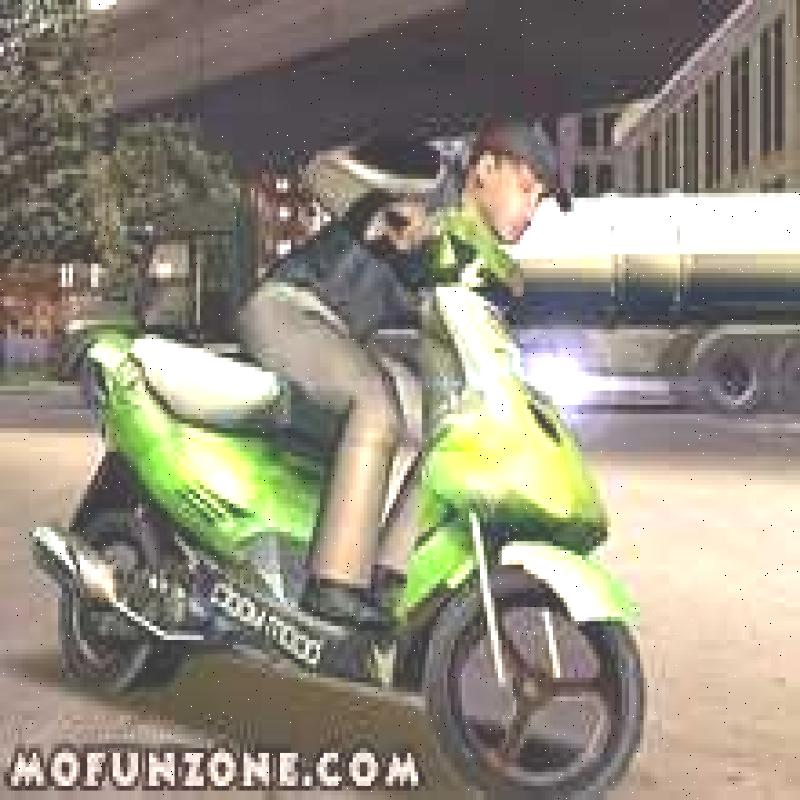bike: (47, 196, 653, 786)
